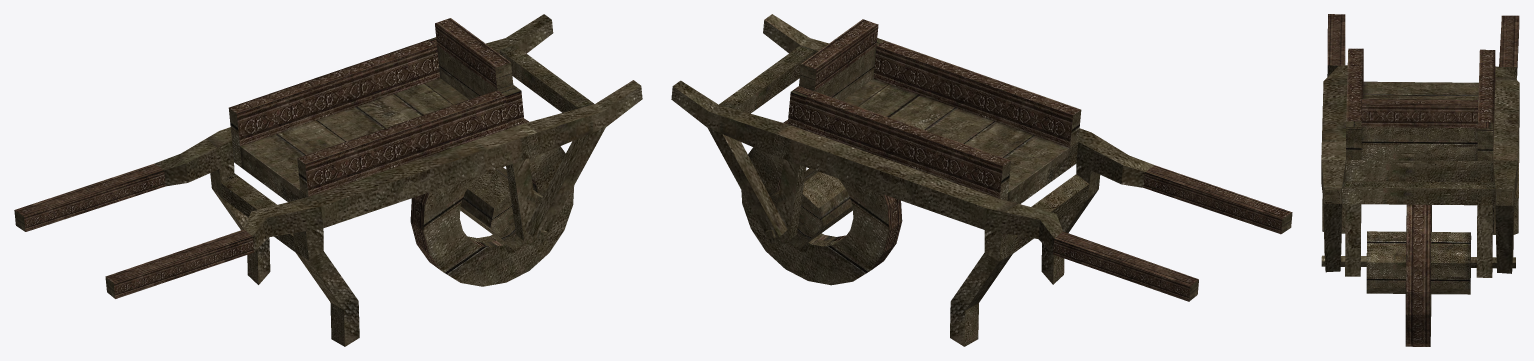
Rendered from STATIC_WITHCART.glb.
3 renders of one model, left to right at view 1: azimuth 30°, elevation 25°; view 2: azimuth 150°, elevation 25°; view 3: azimuth 270°, elevation 25°, orthographic. The views are drawn at different scales.
Visible parts, largest first — view 1: STATIC_WITHCART; view 2: STATIC_WITHCART; view 3: STATIC_WITHCART.
Part boxes in pixels (x1,y1,x2,y2): STATIC_WITHCART: (14, 14, 642, 346); STATIC_WITHCART: (671, 14, 1292, 346); STATIC_WITHCART: (1321, 14, 1519, 346).
Size of the model in its own units: 1.7 by 0.7442 by 0.5852.
Materials: 1 (1 with a texture image).
